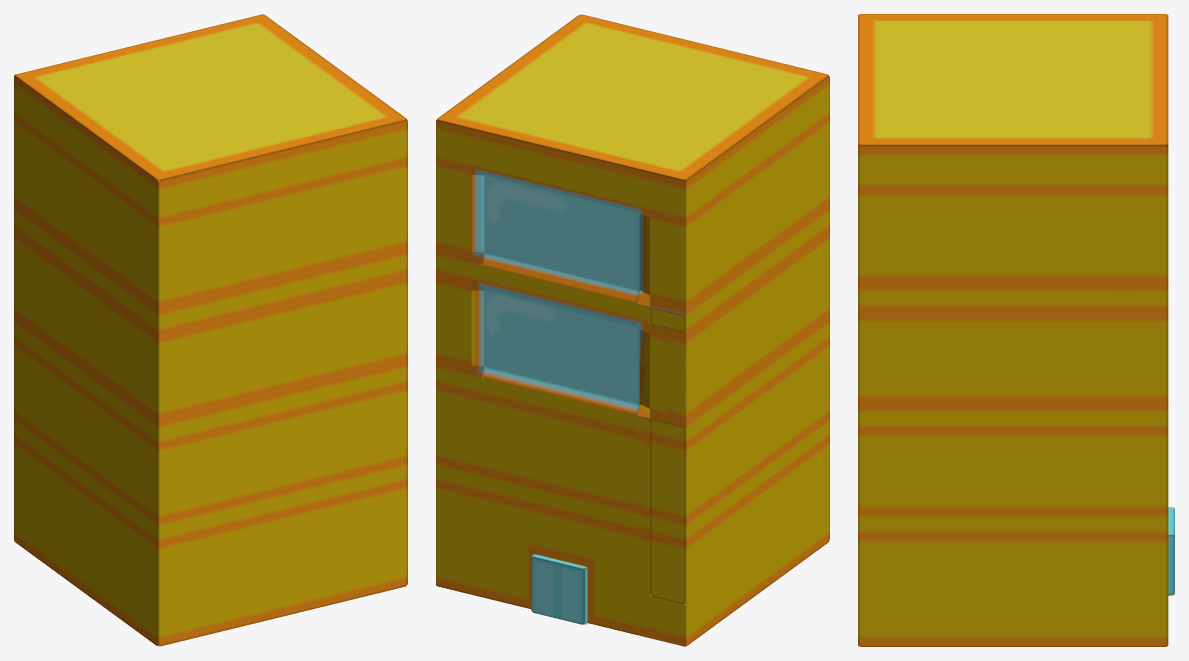
The model's file is building3.fbx.
The picture shows the model from 3 angles, left to right: view 1: azimuth 30°, elevation 25°; view 2: azimuth 150°, elevation 25°; view 3: azimuth 270°, elevation 25°; orthographic projection. The views are drawn at different scales.
Parts seen in each view (by area): view 1: group; view 2: group; view 3: group.
Part boxes in pixels (<box>): group: <box>14,14,407,646</box>; group: <box>436,14,829,646</box>; group: <box>858,14,1174,646</box>.
Bounding box in the file's own units: 87.5 × 156 × 89.38.
Materials: 1 (1 with a texture image).
